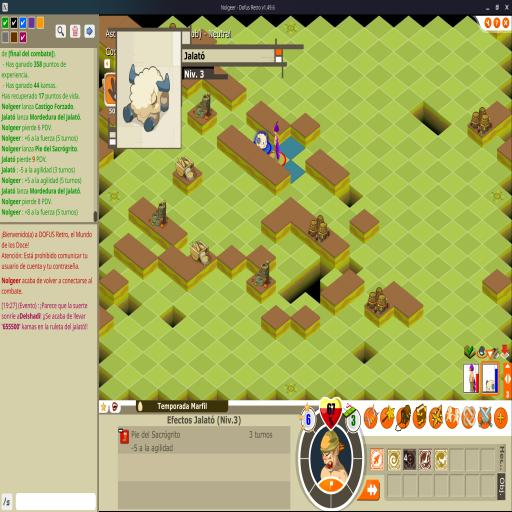Enemigos: (254, 132, 269, 150)
Personaje: (272, 121, 282, 160)
